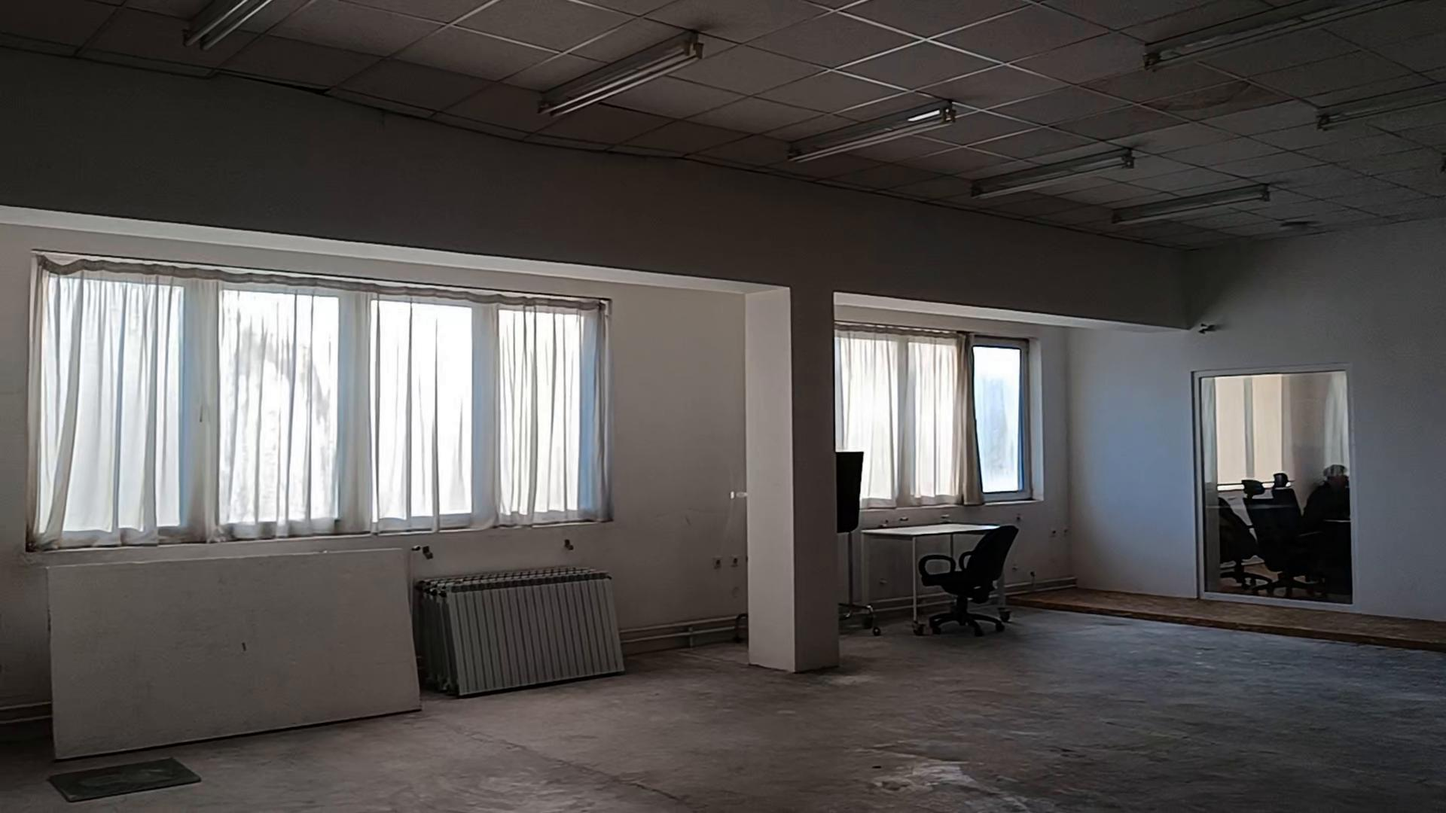ceiling: (0, 0, 1445, 246)
floor: (0, 609, 1445, 812)
wall: (3, 55, 1438, 624), (744, 287, 840, 672), (1039, 335, 1074, 578)
